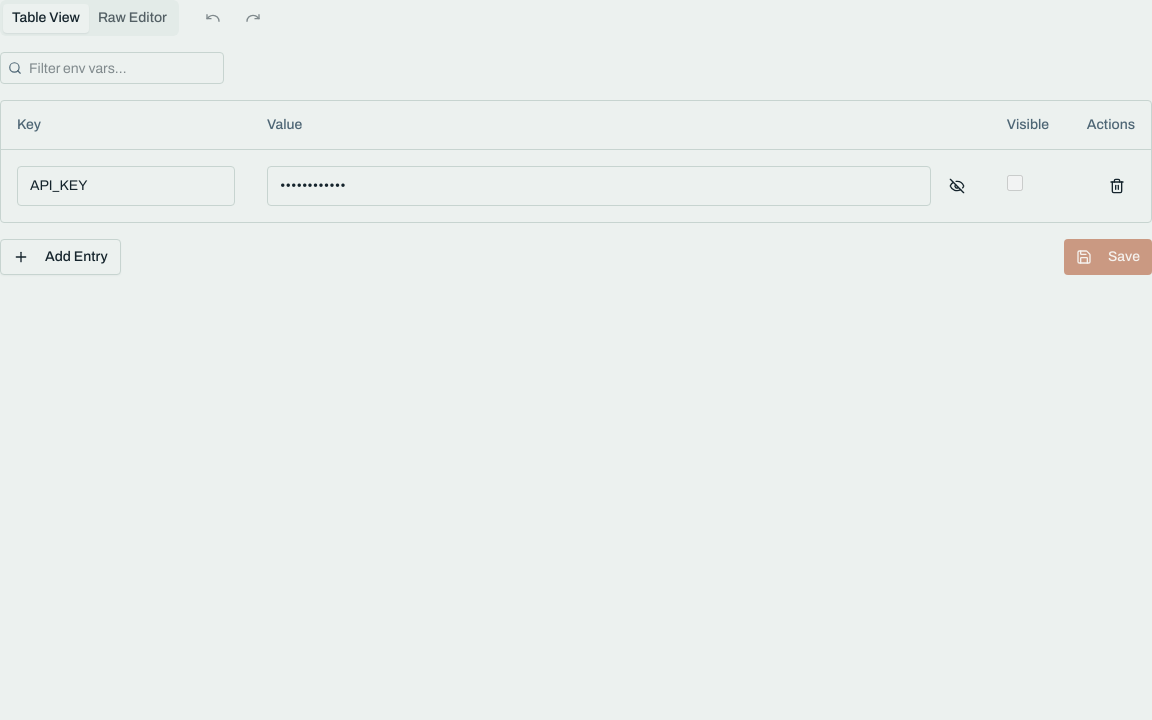
EnvEditor unlock dialog wiring › Cancel closes the dialog without revealing or unlocking the session
Expected: the password field showing "secret-value" is shown, [267,166,931,206]
What coordinates should you click on to do the following:
click the button named "Toggle visibility for entry 1"
I would click on:
 (957, 186)
Its box is [939,168,975,204].
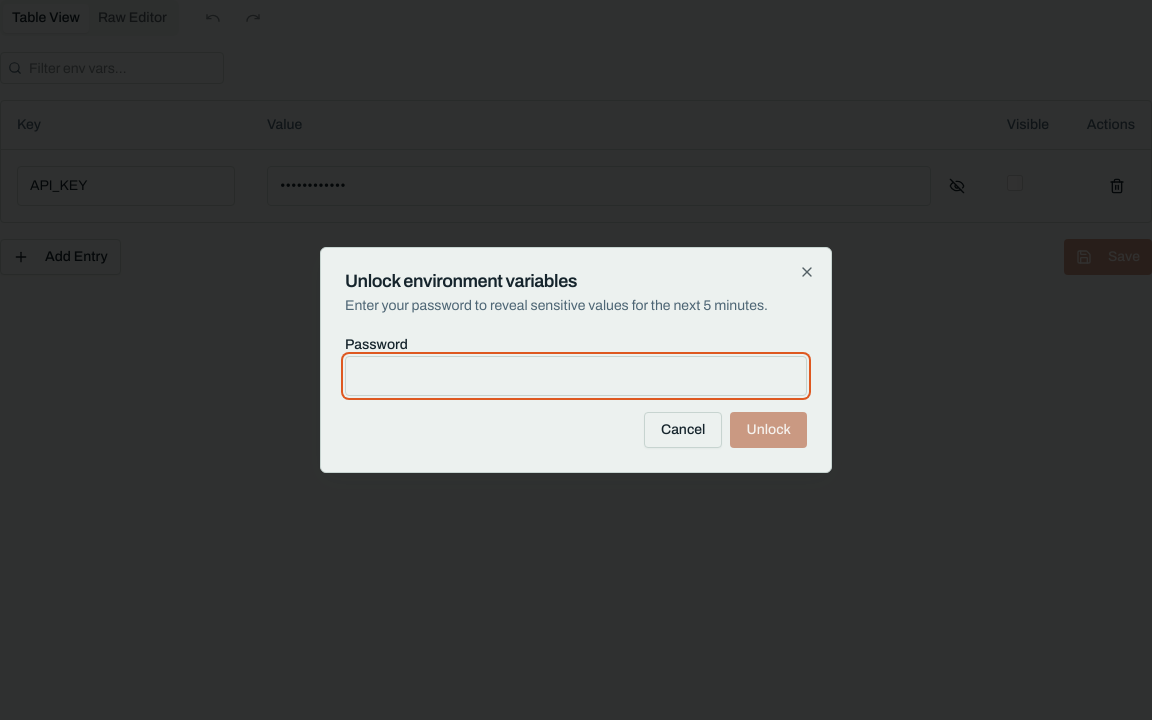
Result: the heading "Unlock environment variables" is shown at [345,271,577,291]
What coordinates should you click on to do the following:
click the button "Cancel"
I would click on:
 (683, 430)
Its box is [644,412,722,448].
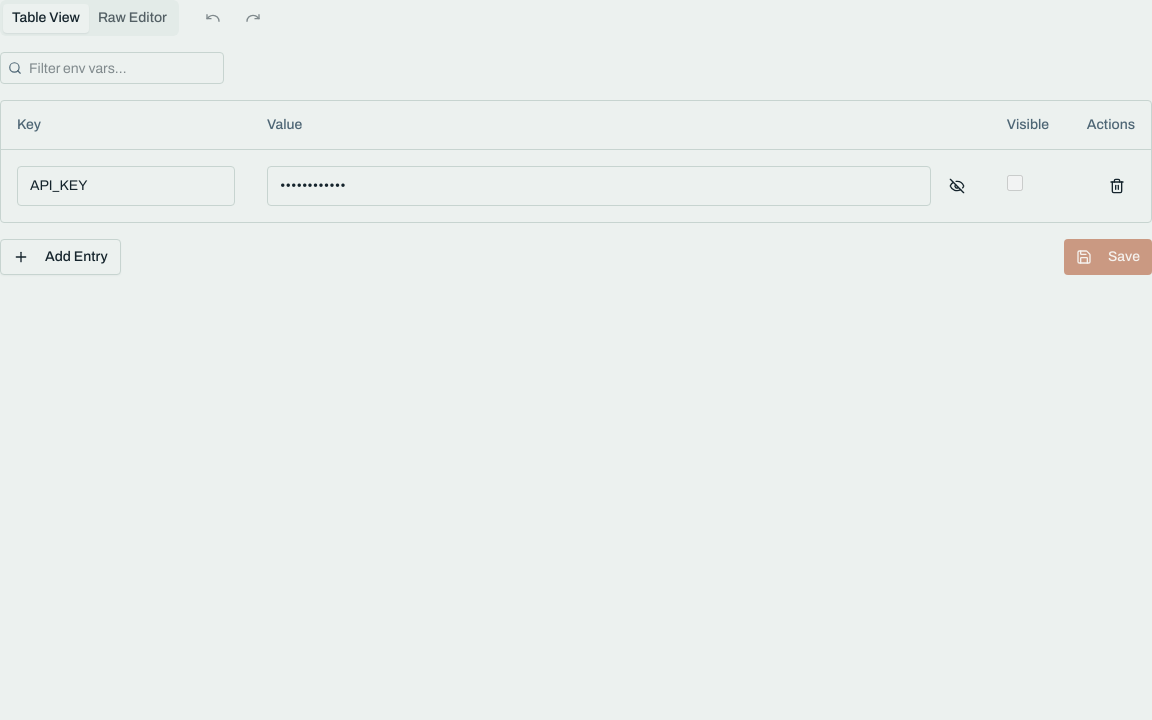
Result: the heading "Unlock environment variables" is gone
